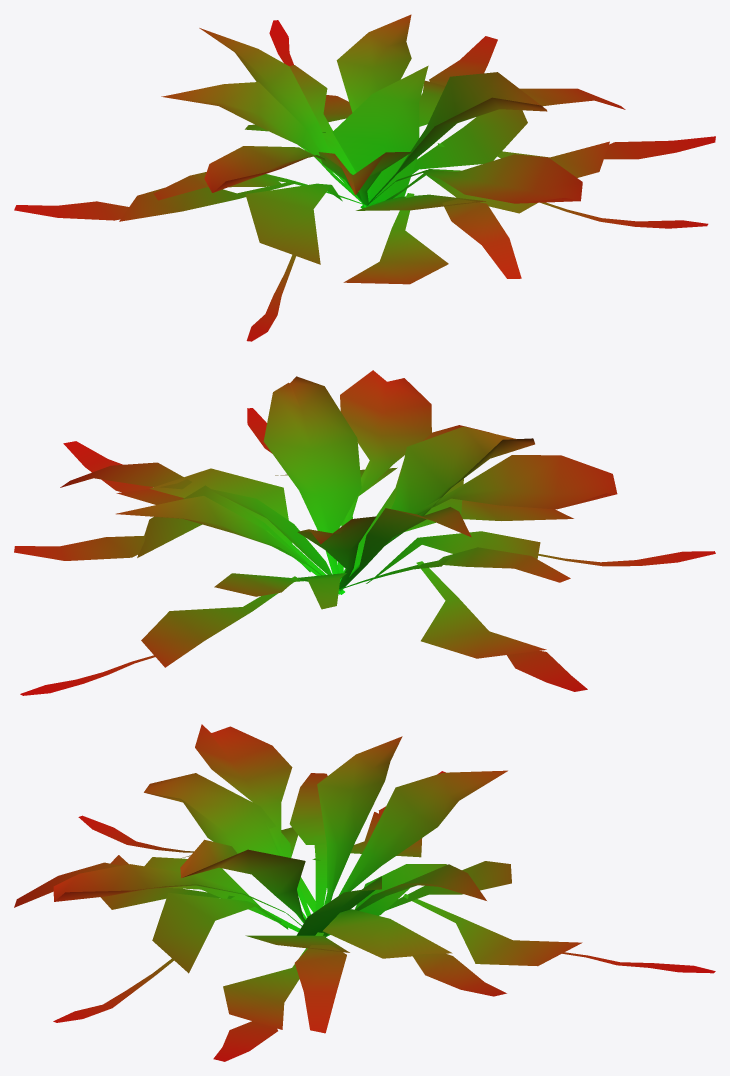
File: Var4_LOD2.fbx
3 views of the same model, one above another, from view 1: azimuth 30°, elevation 25°; view 2: azimuth 150°, elevation 25°; view 3: azimuth 270°, elevation 25° (orthographic). The views are drawn at different scales.
Visible parts, largest first — view 1: _86ae_Var4_LOD2; view 2: _86ae_Var4_LOD2; view 3: _86ae_Var4_LOD2.
Boxes of the visible parts, left/top/right/bottom form: _86ae_Var4_LOD2: left=14, top=14, right=715, bottom=341; _86ae_Var4_LOD2: left=14, top=370, right=715, bottom=695; _86ae_Var4_LOD2: left=14, top=724, right=715, bottom=1061.
Size of the model in its own units: 79.09 by 17.46 by 78.88.
